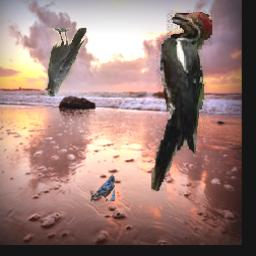Crow: (46, 29, 87, 98), (90, 175, 116, 202)
Woodpecker: (151, 10, 212, 191)
